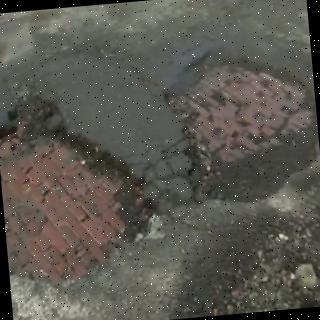pothole: (0, 109, 155, 288), (169, 66, 319, 204)
